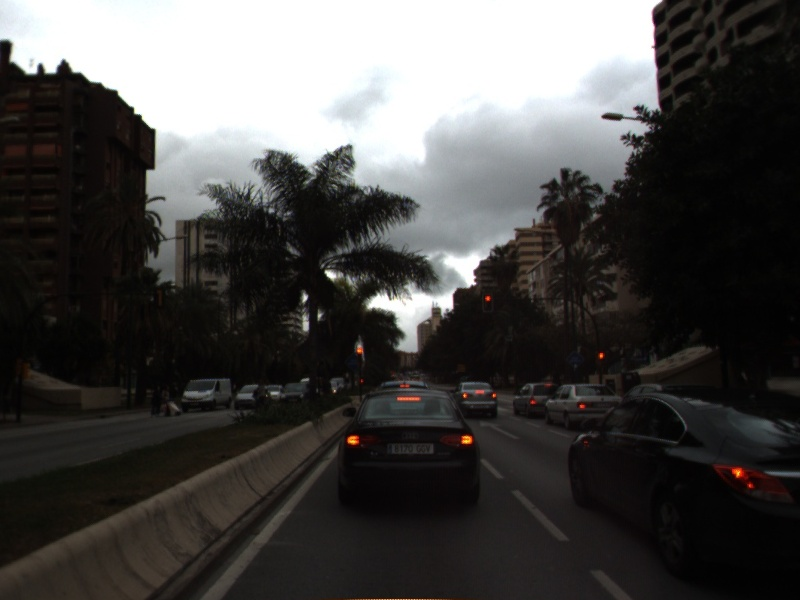STRAIGHT: (478, 418, 522, 442)
